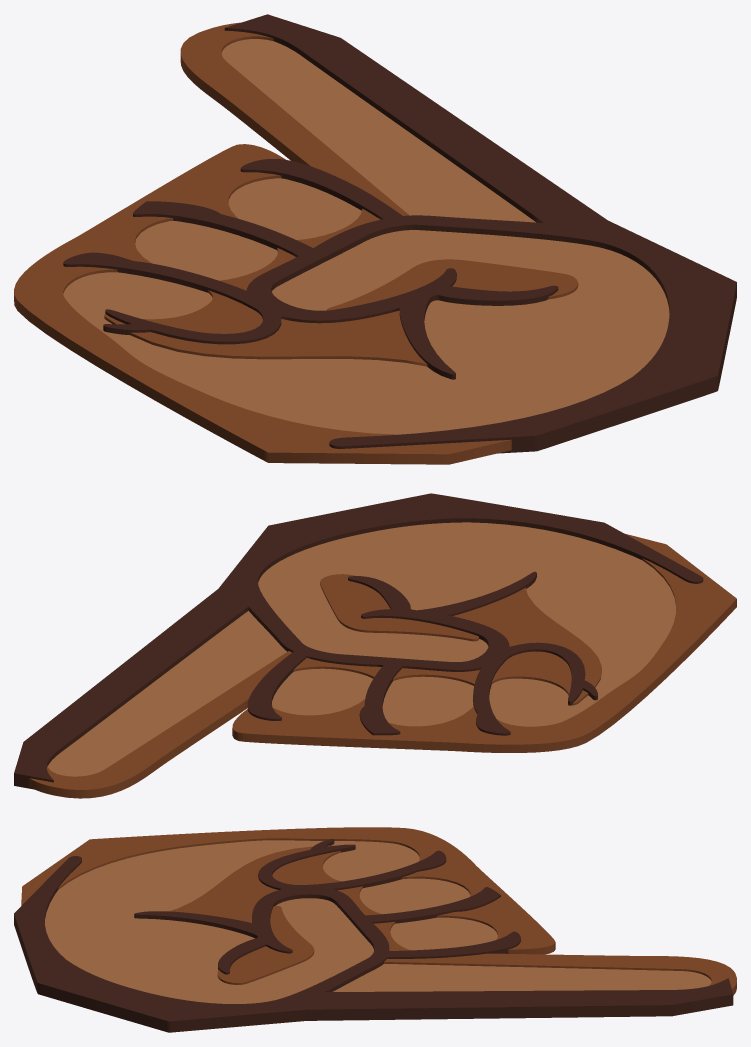
File: emoji_u261d_1f3fe.glb
3 views of the same model, one above another, from view 1: azimuth 30°, elevation 25°; view 2: azimuth 150°, elevation 25°; view 3: azimuth 270°, elevation 25° (orthographic). The views are drawn at different scales.
Parts seen in each view (by area): view 1: emoji_u261d_1f3fe; view 2: emoji_u261d_1f3fe; view 3: emoji_u261d_1f3fe.
Part boxes in pixels (x1=…): emoji_u261d_1f3fe: x1=14, y1=14, x2=736, y2=464; emoji_u261d_1f3fe: x1=14, y1=493, x2=736, y2=798; emoji_u261d_1f3fe: x1=14, y1=827, x2=736, y2=1032.
Size of the model in its own units: 0.0224 by 0.0006 by 0.035.
